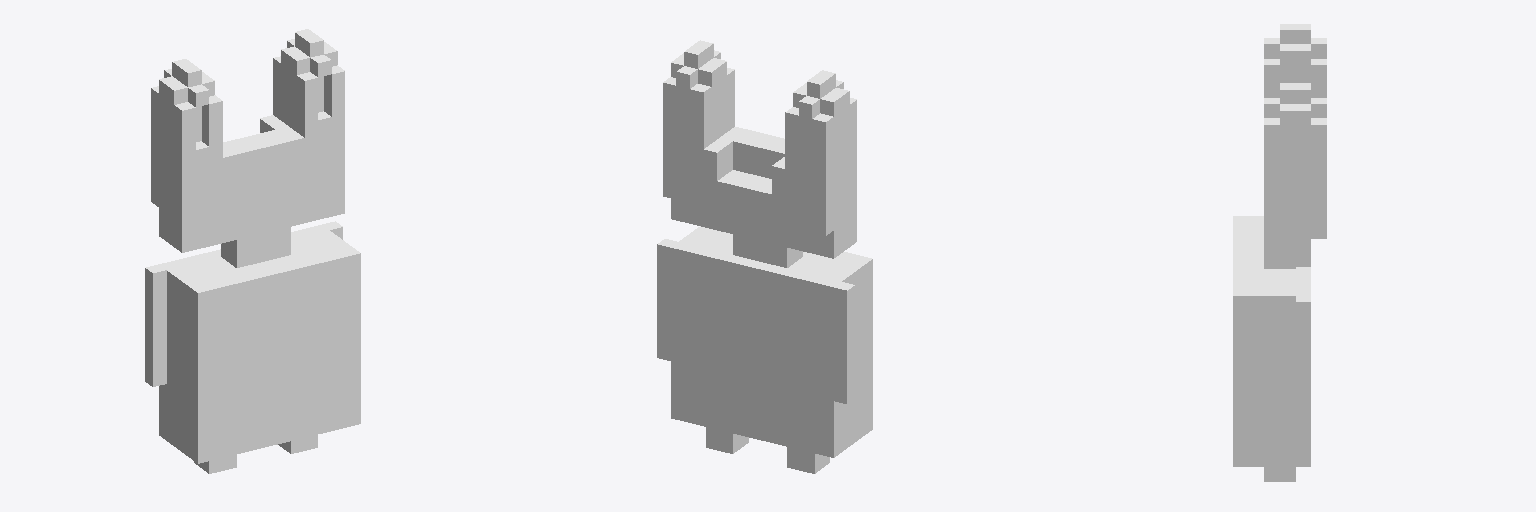
File: Bat_Body.obj
The picture shows the model from 3 angles: view 1: azimuth 30°, elevation 25°; view 2: azimuth 150°, elevation 25°; view 3: azimuth 270°, elevation 25°; orthographic projection.
Visible parts, largest first — view 1: object 1; view 2: object 1; view 3: object 1.
Boxes of the visible parts, x1=… form: object 1: x1=145, y1=29, x2=360, y2=473; object 1: x1=657, y1=40, x2=872, y2=473; object 1: x1=1233, y1=24, x2=1326, y2=481.
Bounding box in the file's own units: 1.4 × 2.8 × 0.6.